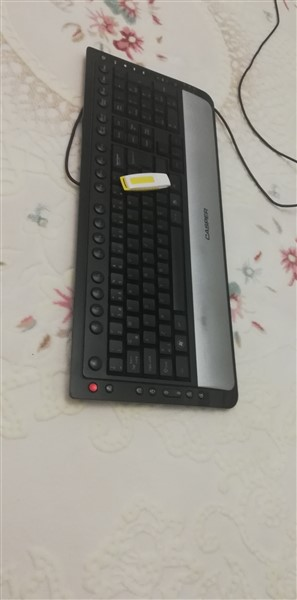flash disk: (119, 168, 177, 197)
klavye: (77, 42, 240, 412)
